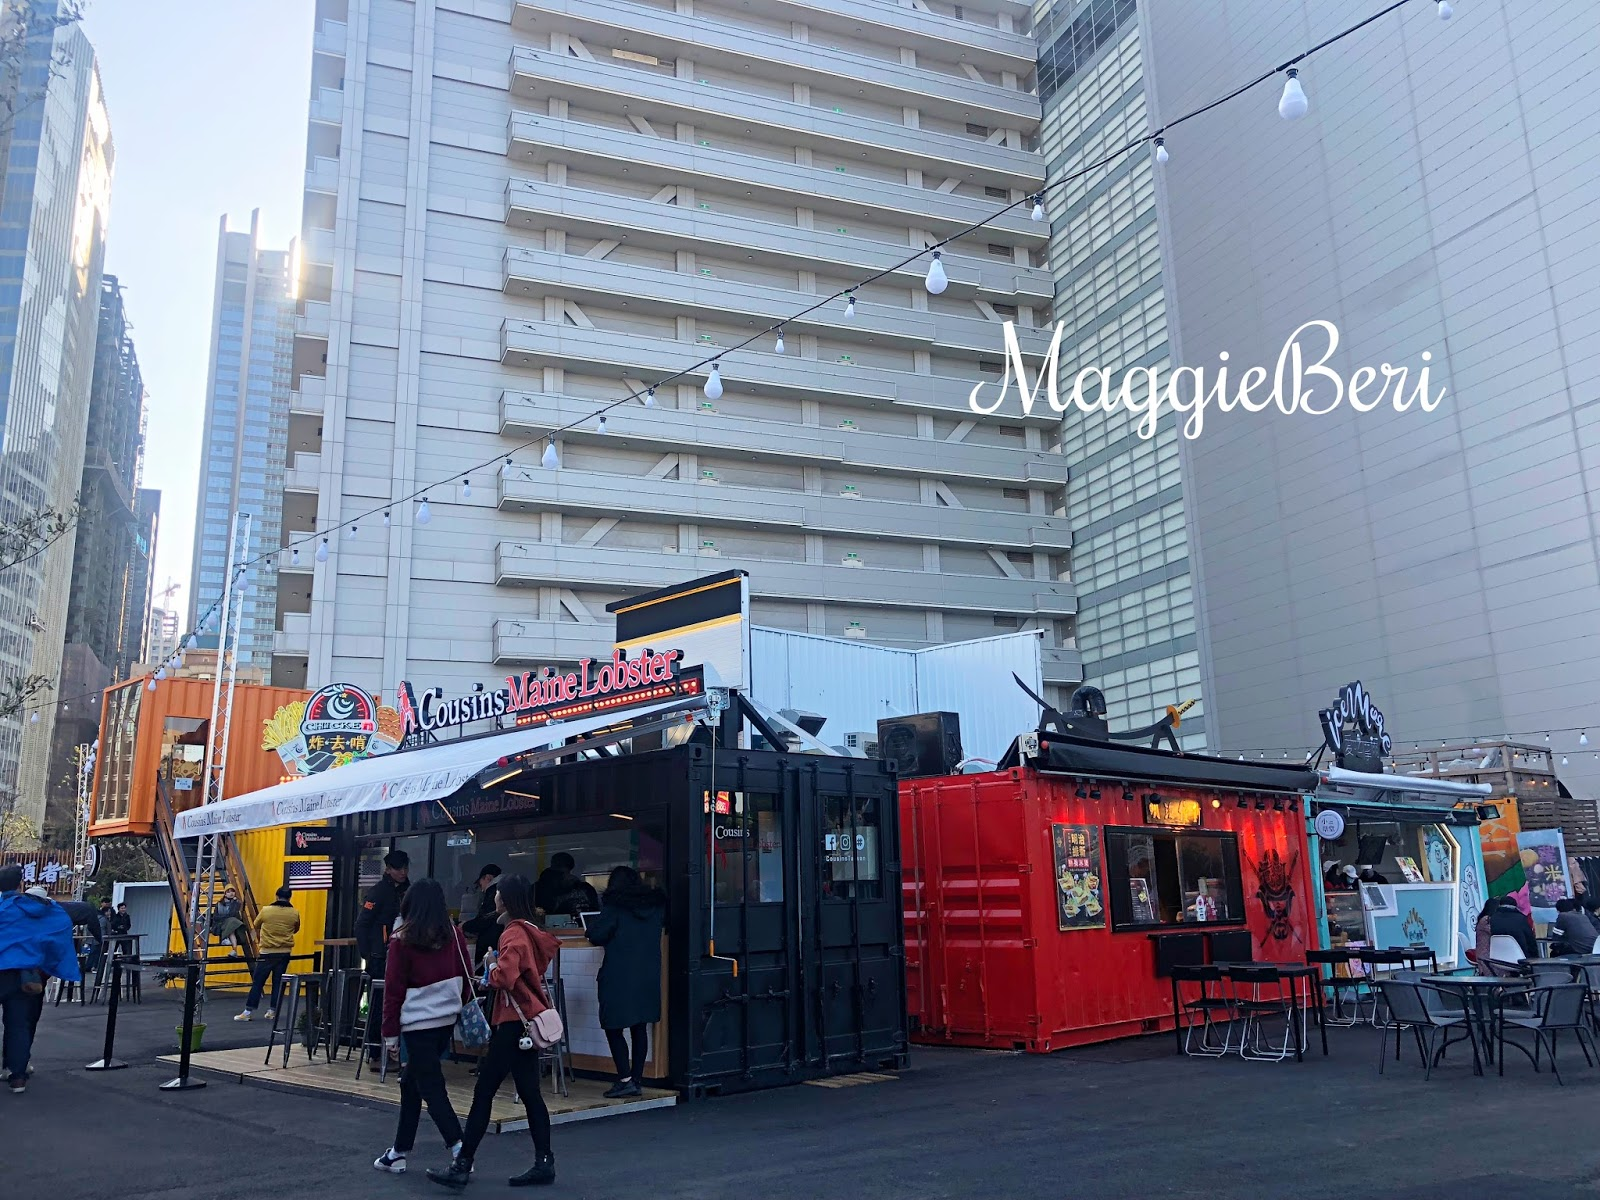people: (469, 876, 565, 1189), (383, 887, 462, 1176), (3, 862, 60, 1083), (1465, 894, 1533, 998), (256, 894, 299, 992)
